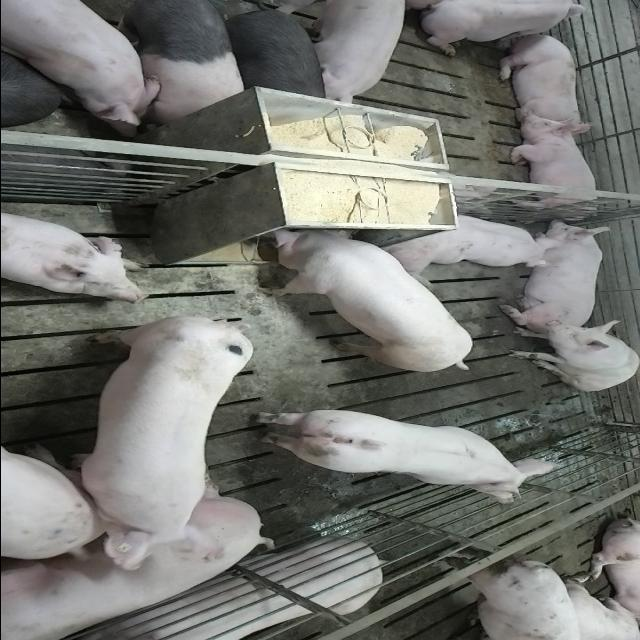Feeding: (248, 218, 474, 368)
Lateral_lying: (0, 482, 271, 640), (39, 537, 382, 640)
Sitting: (503, 319, 638, 392)
Standing: (70, 316, 260, 570), (242, 406, 560, 504), (0, 1, 166, 137), (73, 2, 245, 128), (416, 542, 576, 640), (3, 430, 102, 560), (292, 0, 411, 108), (222, 2, 328, 106)
Sternal_lying: (0, 207, 148, 301), (504, 217, 612, 327), (377, 210, 559, 272), (411, 3, 598, 56), (506, 116, 604, 214), (493, 32, 589, 130)
